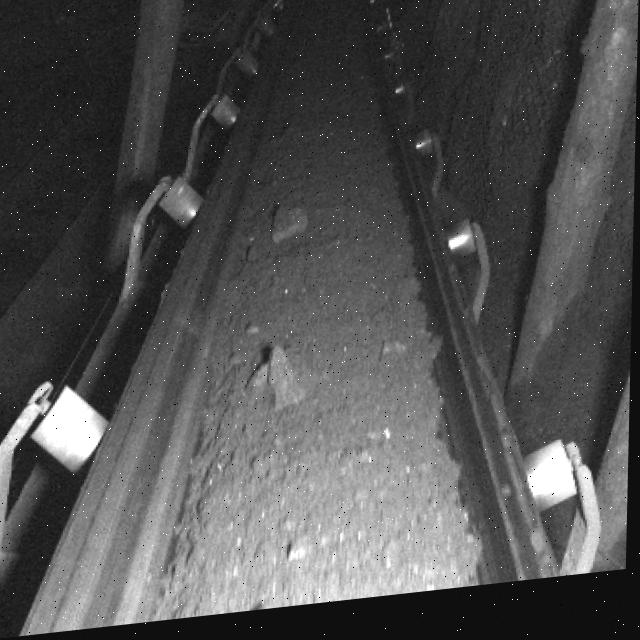large_sized_coal: (252, 351, 308, 420), (273, 199, 318, 254)
